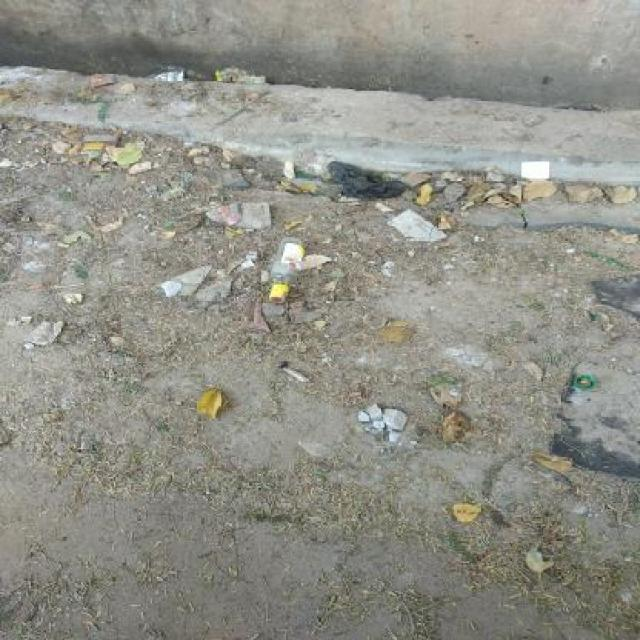garbage: (343, 160, 639, 253), (200, 180, 356, 330), (19, 71, 174, 181), (426, 468, 491, 560), (419, 406, 514, 466), (529, 443, 619, 498), (170, 380, 256, 421), (511, 539, 582, 586), (377, 316, 434, 360), (562, 372, 626, 403)
